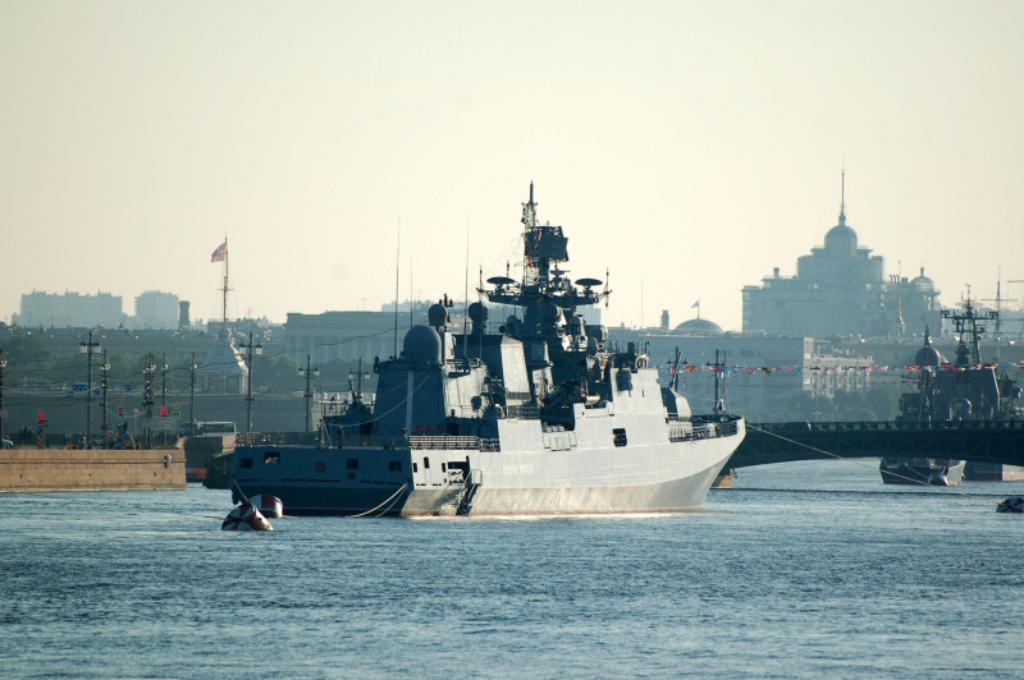Warship: (223, 169, 747, 524), (872, 280, 1018, 488)
